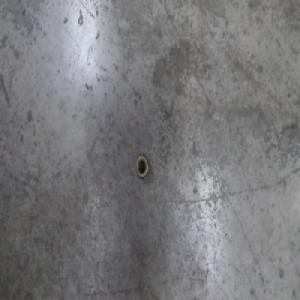Nut: (135, 155, 149, 181)
